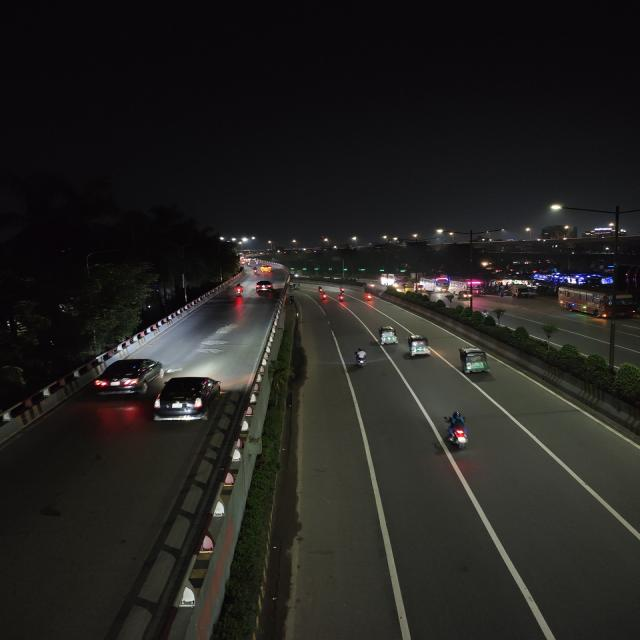bus: (556, 285, 636, 321), (419, 276, 450, 294)
car: (150, 374, 224, 426), (94, 356, 166, 396), (254, 279, 275, 293)
cng: (455, 346, 492, 376), (404, 333, 433, 361), (374, 324, 400, 348), (456, 290, 472, 302), (292, 282, 302, 292)
motorcycle: (439, 409, 480, 453), (350, 346, 371, 370), (233, 282, 245, 296), (362, 292, 376, 304), (318, 290, 329, 302), (337, 292, 348, 303), (316, 286, 328, 296), (337, 286, 348, 296)
truck: (510, 285, 530, 297)
